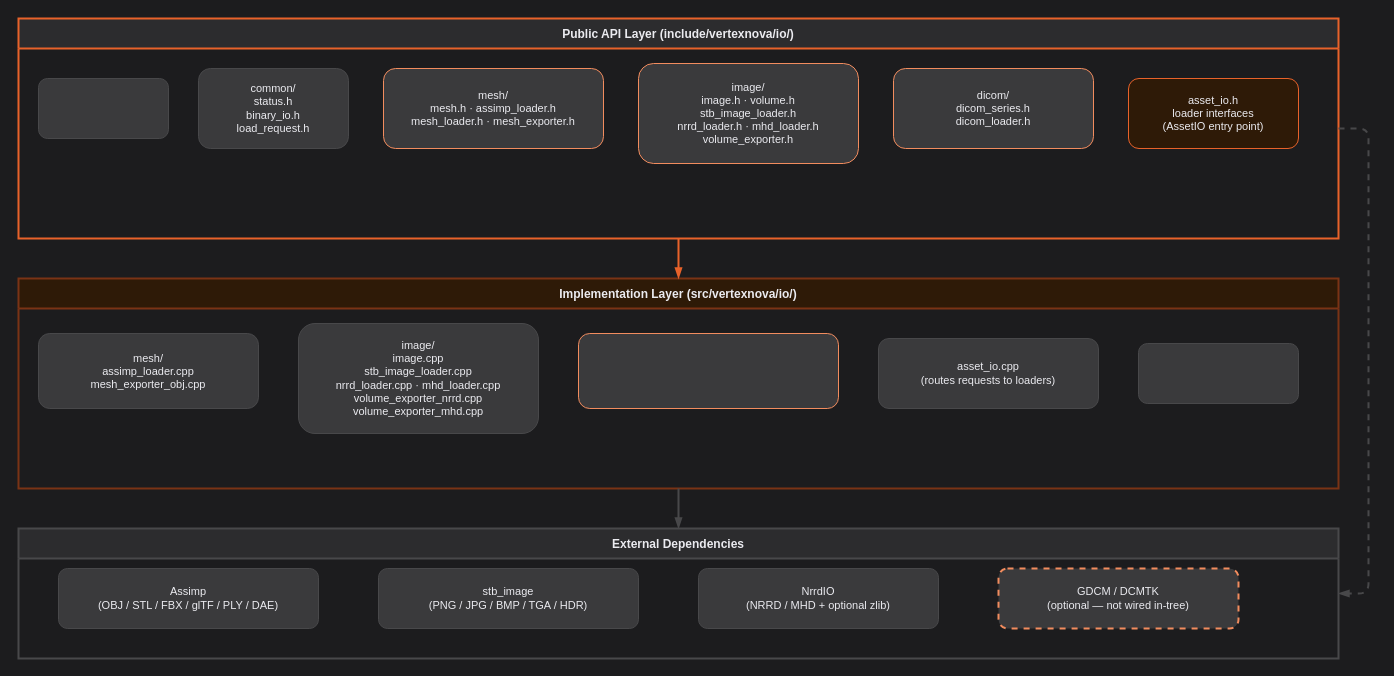
The diagram is 1394 pixels wide and 676 high, and some of its shapes have lost their labels. Each missing label, with the centre of its shape:
"dicom/ (no .cpp in tree) IDicomLoader impl external" goes at (708,370).
"utils/ path_utils.cpp" goes at (1218,373).
"vneio.h (umbrella)" goes at (103,108).
